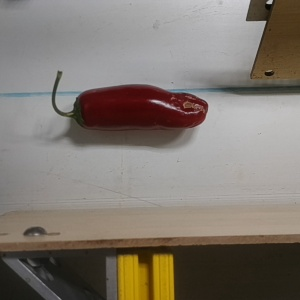Cut Point: (66, 89, 96, 130)
